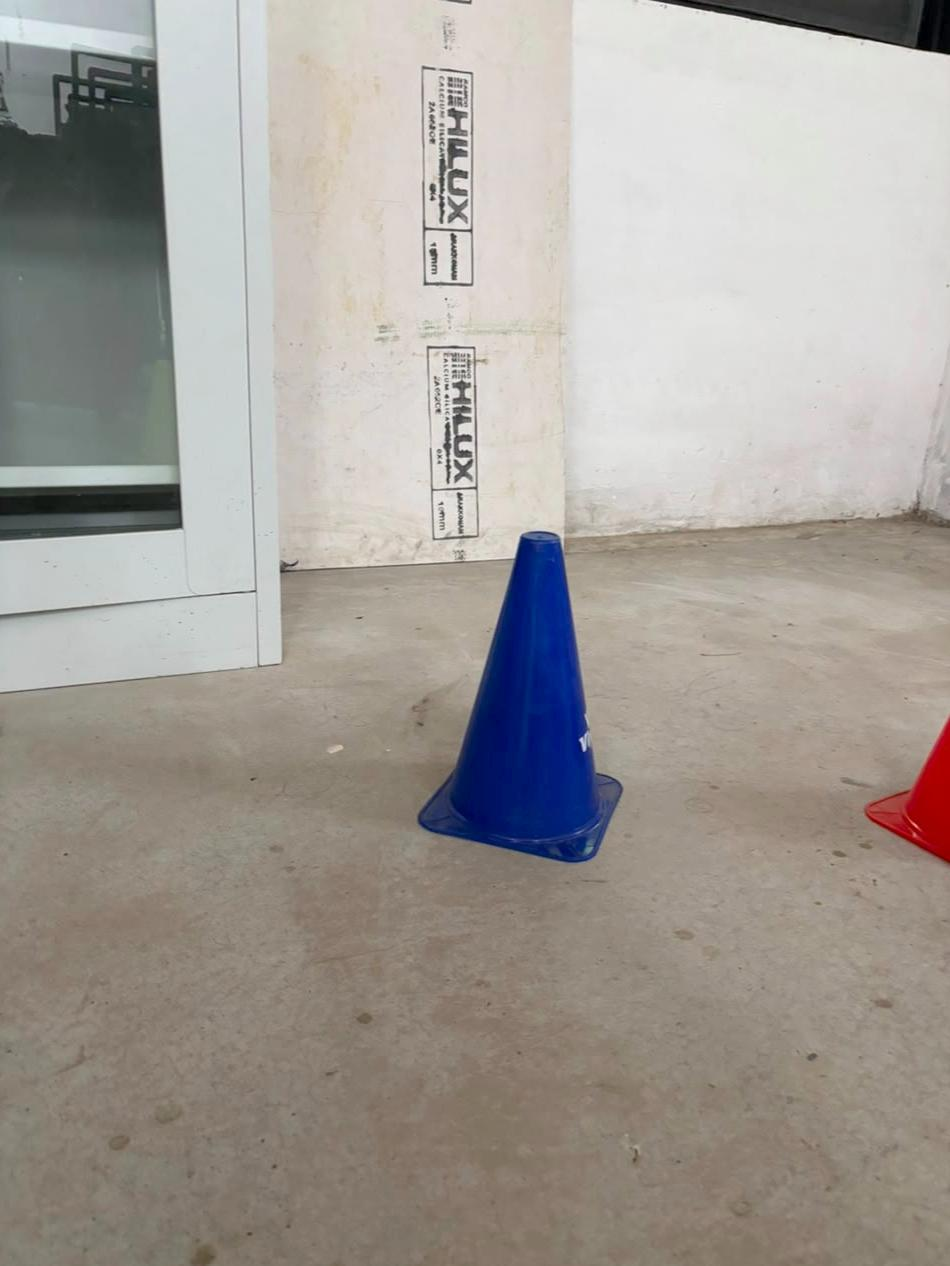0 cone: (418, 532, 622, 863)
